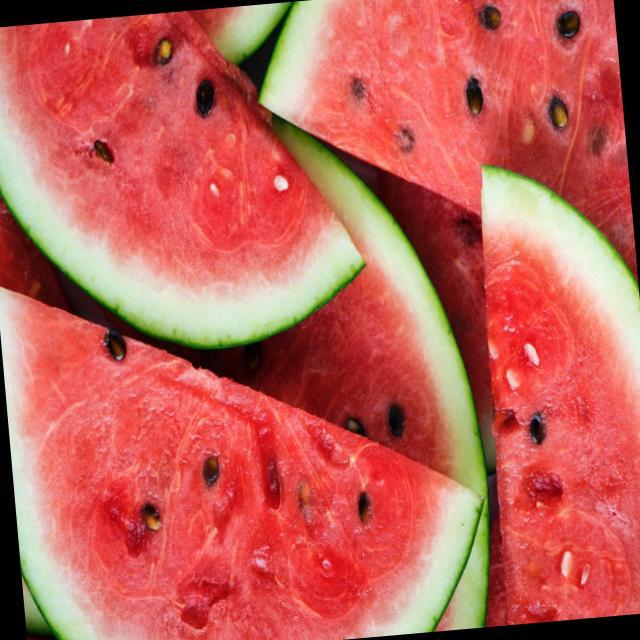WATERMELON: (0, 247, 496, 640), (0, 0, 386, 369), (0, 0, 370, 360), (252, 0, 637, 315), (469, 153, 640, 624)
